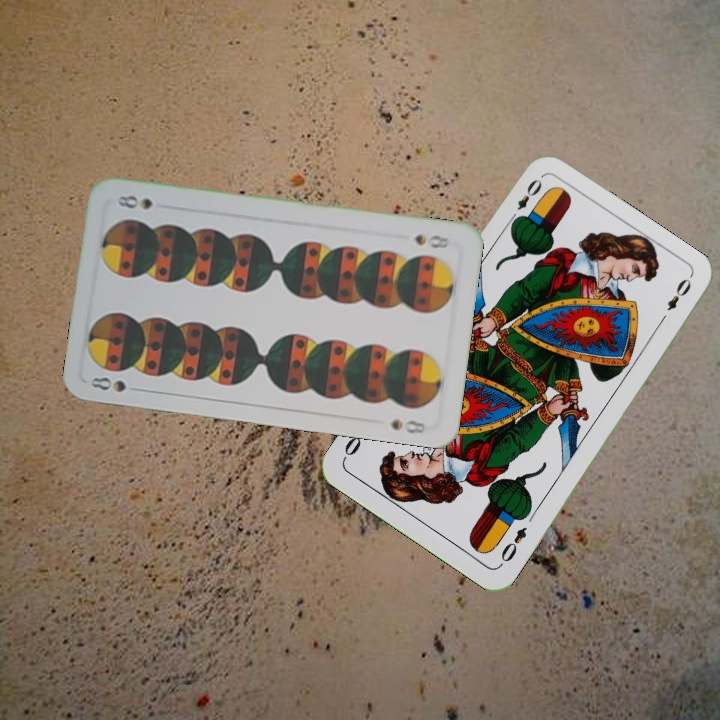EO: (505, 174, 545, 226), (496, 522, 530, 565)
S8: (87, 373, 129, 395), (410, 230, 453, 251)
